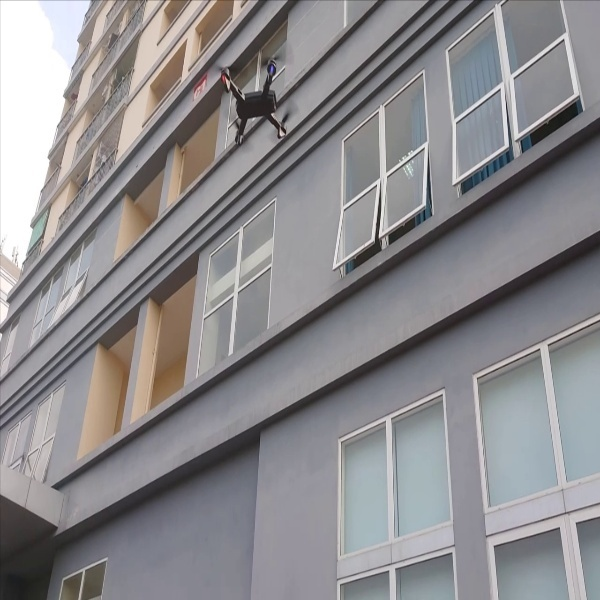drone: (210, 52, 299, 142)
